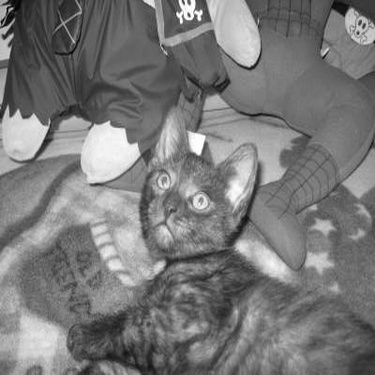cat: (38, 120, 357, 364)
